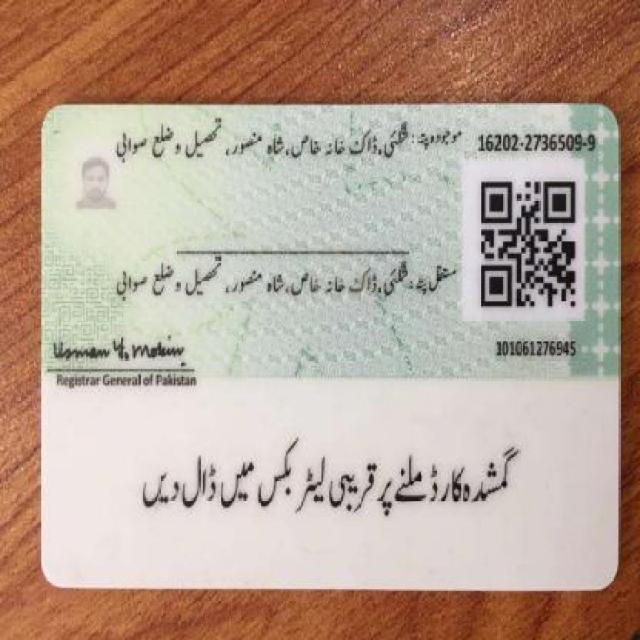Back: (34, 100, 626, 594)
